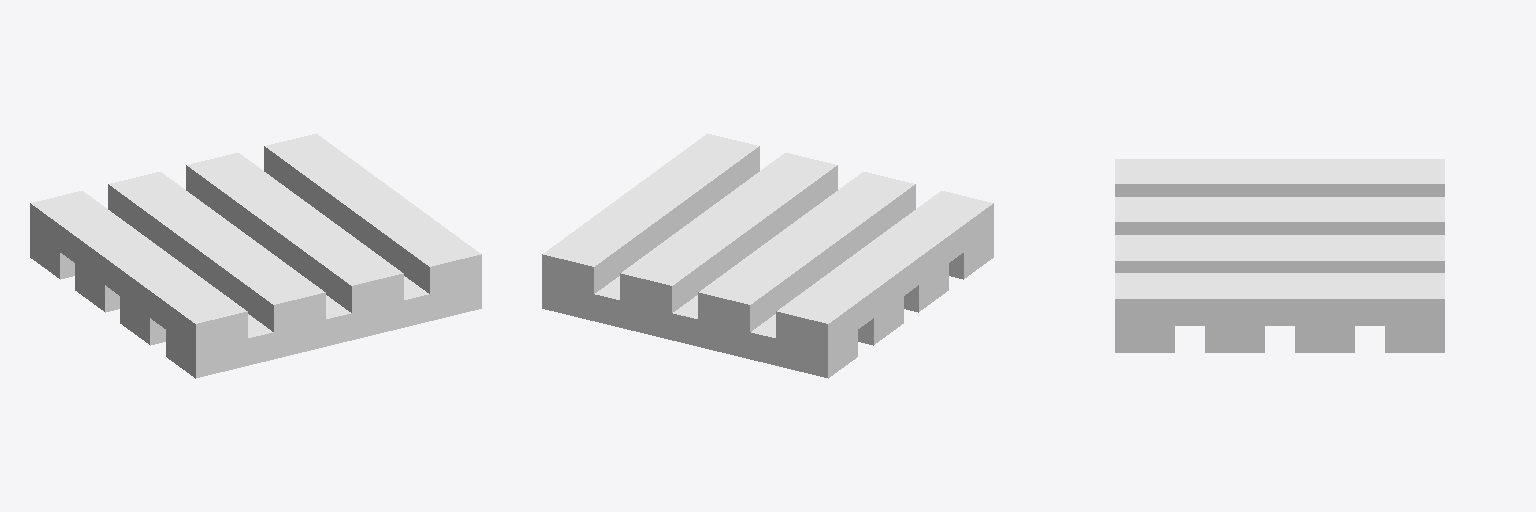
Rendered from pallet_yellow.obj.
3 renders of one model, left to right at view 1: azimuth 30°, elevation 25°; view 2: azimuth 150°, elevation 25°; view 3: azimuth 270°, elevation 25°, orthographic.
Parts seen in each view (by area): view 1: pallet_yellow; view 2: pallet_yellow; view 3: pallet_yellow.
Boxes of the visible parts, x1=… form: pallet_yellow: x1=30, y1=133, x2=481, y2=378; pallet_yellow: x1=542, y1=133, x2=993, y2=378; pallet_yellow: x1=1115, y1=159, x2=1444, y2=352.
Bounding box in the file's own units: 11 × 2 × 11.